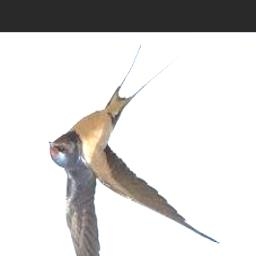Swallow: (48, 45, 222, 256)
